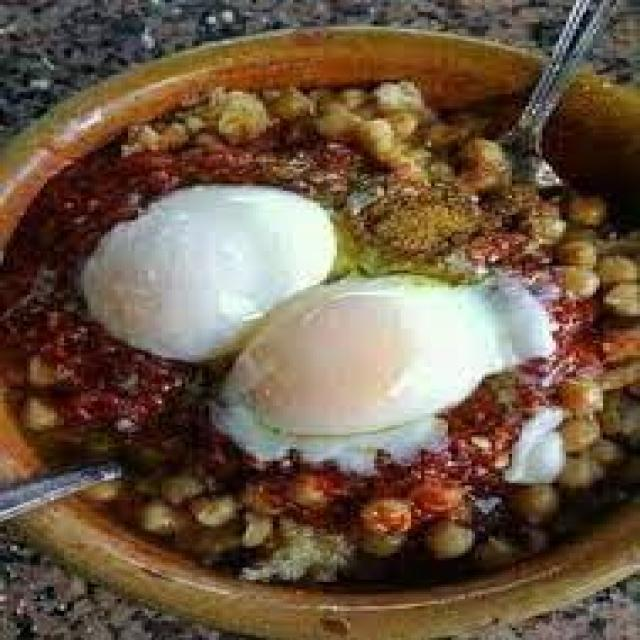Lablabi: (14, 32, 636, 602)
